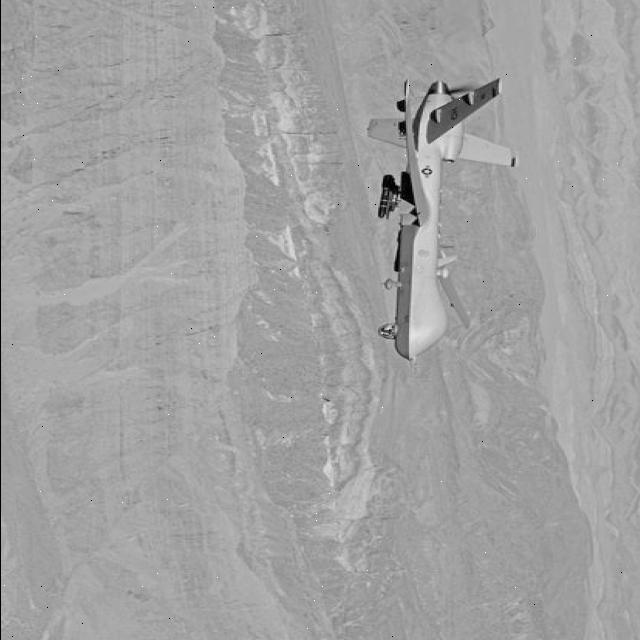MQ9: (344, 58, 572, 384)
